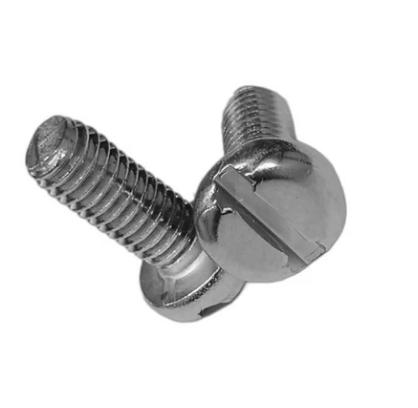slotted: (195, 142, 348, 284)
